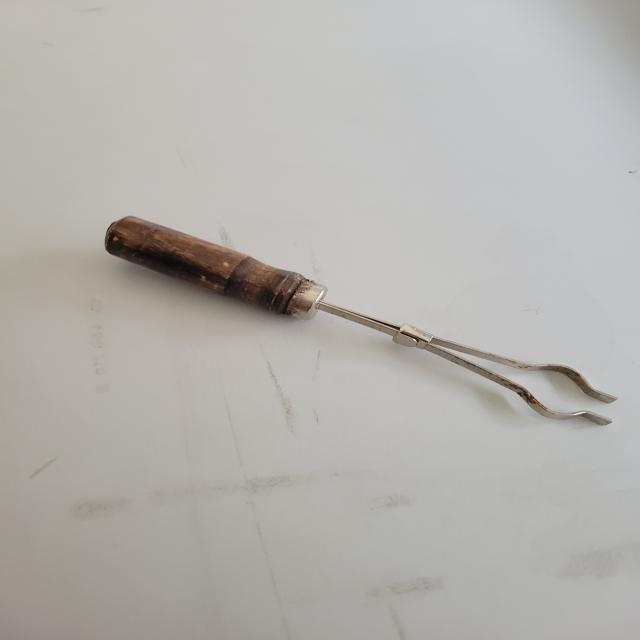TestTube_Holder: (72, 173, 631, 492)
